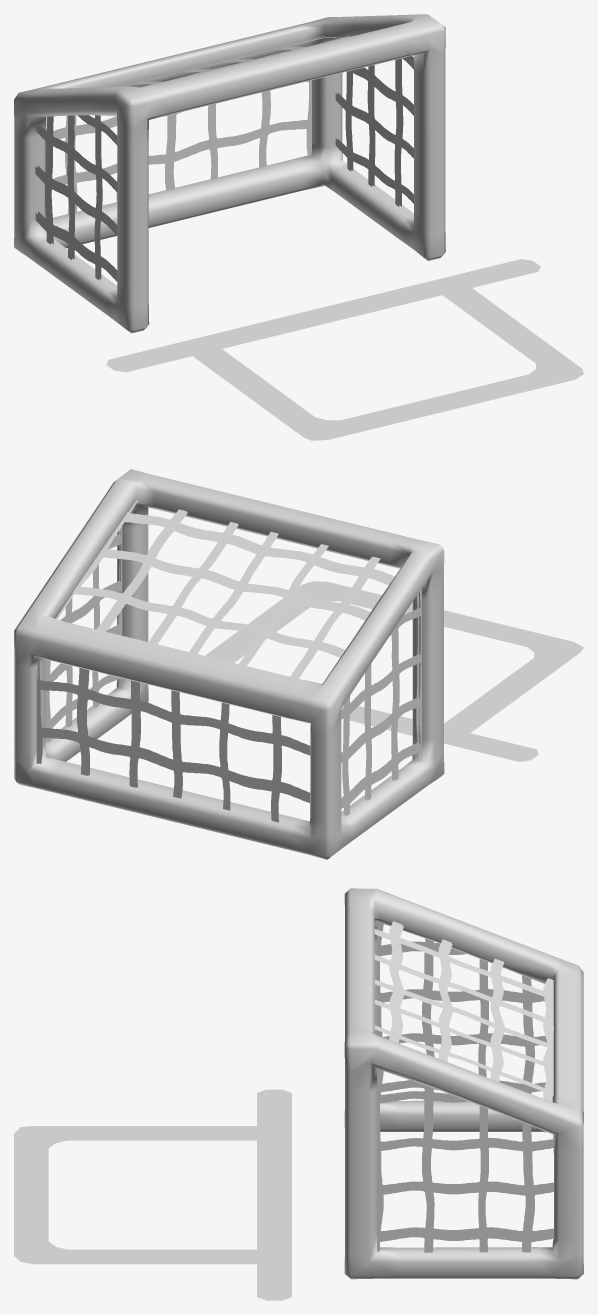
File: Soccer Field.obj
3 renders of one model, top to bottom at view 1: azimuth 30°, elevation 25°; view 2: azimuth 150°, elevation 25°; view 3: azimuth 270°, elevation 25°, orthographic.
Parts seen in each view (by area): view 1: Soccer_Field, Soccer_Field_Net; view 2: Soccer_Field, Soccer_Field_Net; view 3: Soccer_Field, Soccer_Field_Net.
Part boxes in pixels (x1,y1,x2,y2): Soccer_Field: (14, 14, 583, 440); Soccer_Field_Net: (35, 36, 413, 281); Soccer_Field: (14, 469, 583, 859); Soccer_Field_Net: (36, 500, 421, 822); Soccer_Field: (14, 888, 583, 1300); Soccer_Field_Net: (374, 921, 553, 1252).
Bounding box in the file's own units: 2.05 × 1.08 × 2.34.
2 materials, 2 textured.
